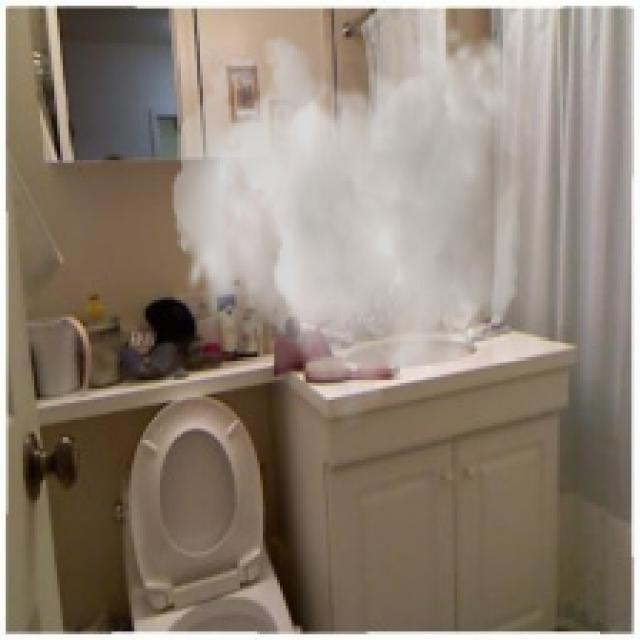Smoke: (172, 22, 537, 434)
